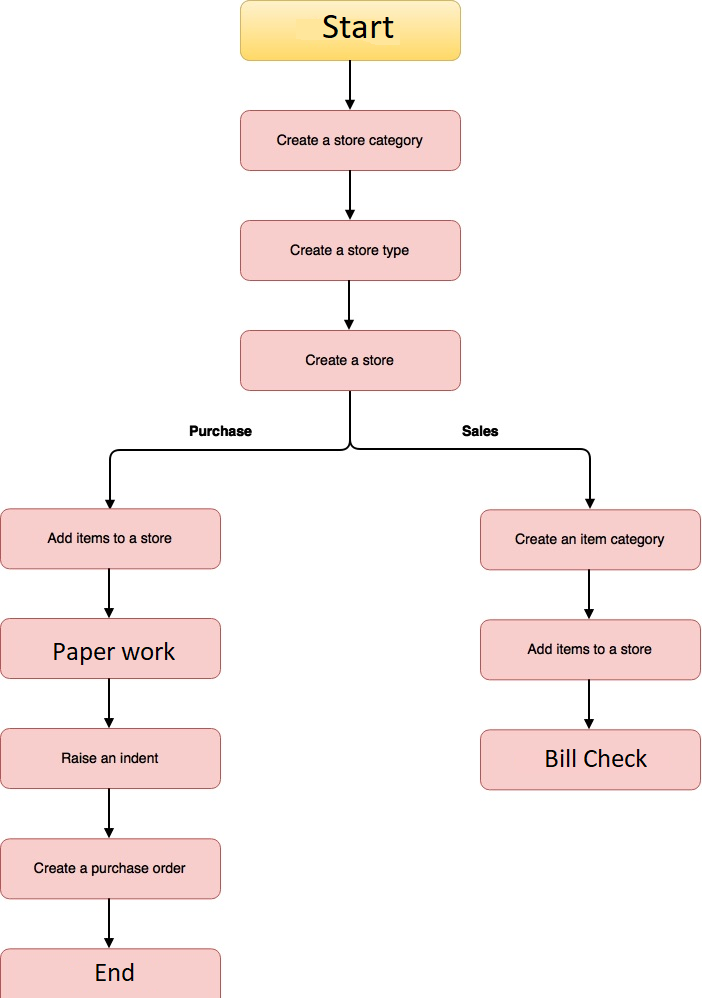arrow: (105, 396, 352, 511), (350, 396, 597, 511), (340, 170, 358, 219), (580, 570, 597, 620), (100, 790, 118, 835), (582, 681, 597, 734), (341, 284, 358, 328), (102, 678, 117, 726), (102, 901, 117, 948), (344, 64, 358, 111), (103, 573, 117, 617)
process: (236, 214, 464, 285), (1, 613, 224, 684), (1, 505, 224, 576), (476, 505, 702, 575), (238, 107, 465, 176), (479, 725, 702, 794), (1, 726, 226, 794), (2, 834, 224, 902), (477, 617, 702, 682), (238, 329, 459, 394), (238, 1, 462, 64), (2, 946, 227, 998)
text: (47, 637, 179, 669), (509, 526, 668, 552), (276, 129, 427, 152), (47, 525, 174, 551), (32, 857, 188, 878), (288, 238, 414, 263), (524, 637, 655, 661), (543, 746, 652, 773), (321, 11, 399, 44), (58, 746, 162, 770), (305, 352, 399, 372), (182, 422, 256, 443), (93, 961, 140, 985), (458, 422, 503, 438)
